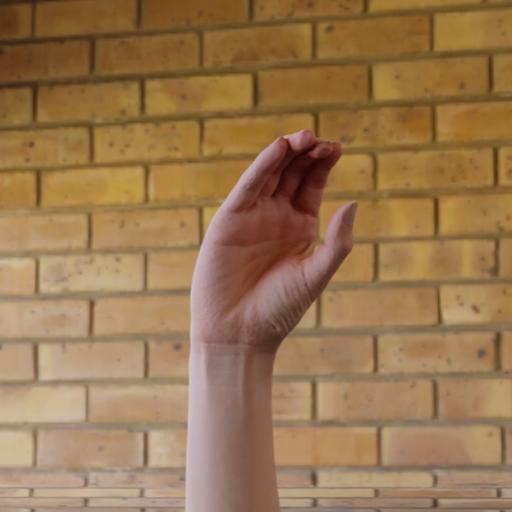C: (194, 128, 361, 407)
